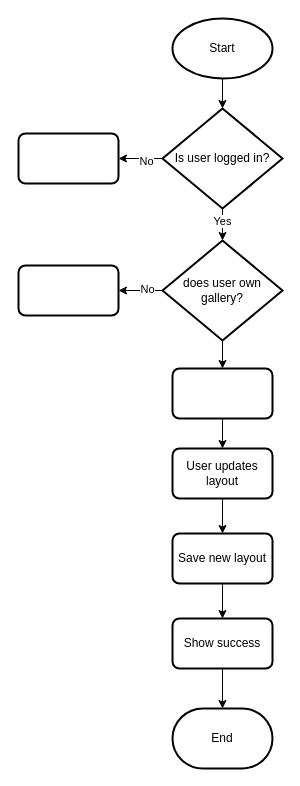
Some shapes in this 300 by 786 pixel diagram are drawn without their labels. The shapes that lost their labels are listed below. From the top down, each one's box as (x1, y1, x2, y2) in pixels, then its label:
(17, 132, 119, 184): Redirect to login
(17, 264, 119, 316): Deny access
(171, 367, 273, 419): Show layout editor
